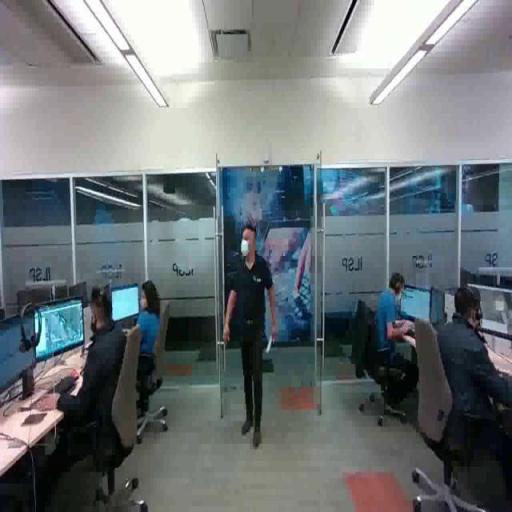person: (22, 291, 133, 487), (427, 282, 512, 512), (224, 223, 280, 448), (358, 271, 425, 407), (107, 277, 165, 413)
